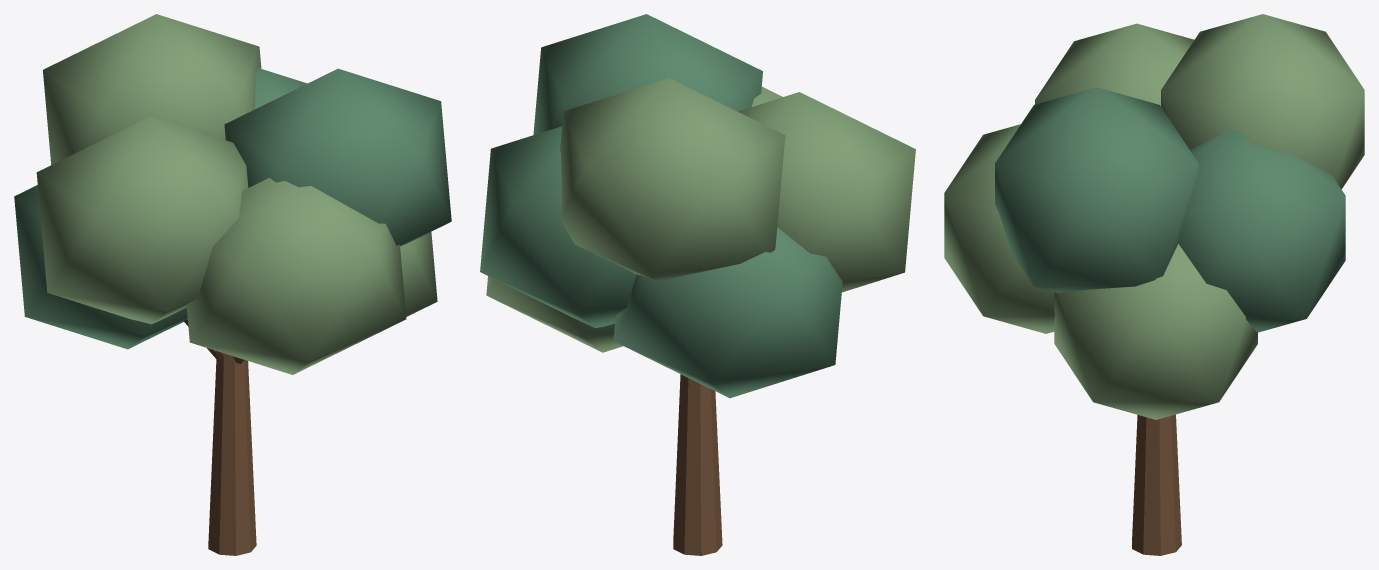
The model's file is tree_0.glb.
3 renders of one model, left to right at view 1: azimuth 30°, elevation 25°; view 2: azimuth 150°, elevation 25°; view 3: azimuth 270°, elevation 25°, orthographic. The views are drawn at different scales.
Parts seen in each view (by area): view 1: Model; view 2: Model; view 3: Model.
Part boxes in pixels (<box>): Model: <box>14,14,451,555</box>; Model: <box>480,14,915,555</box>; Model: <box>944,14,1364,555</box>.
Bounding box in the file's own units: 2.53 × 3.11 × 2.28.
